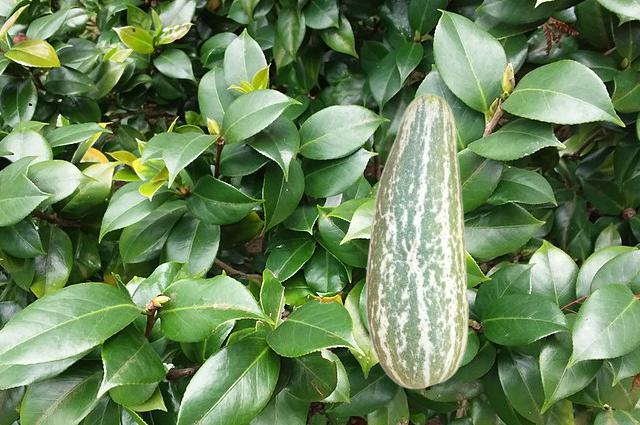cucumber: (365, 93, 468, 388)
